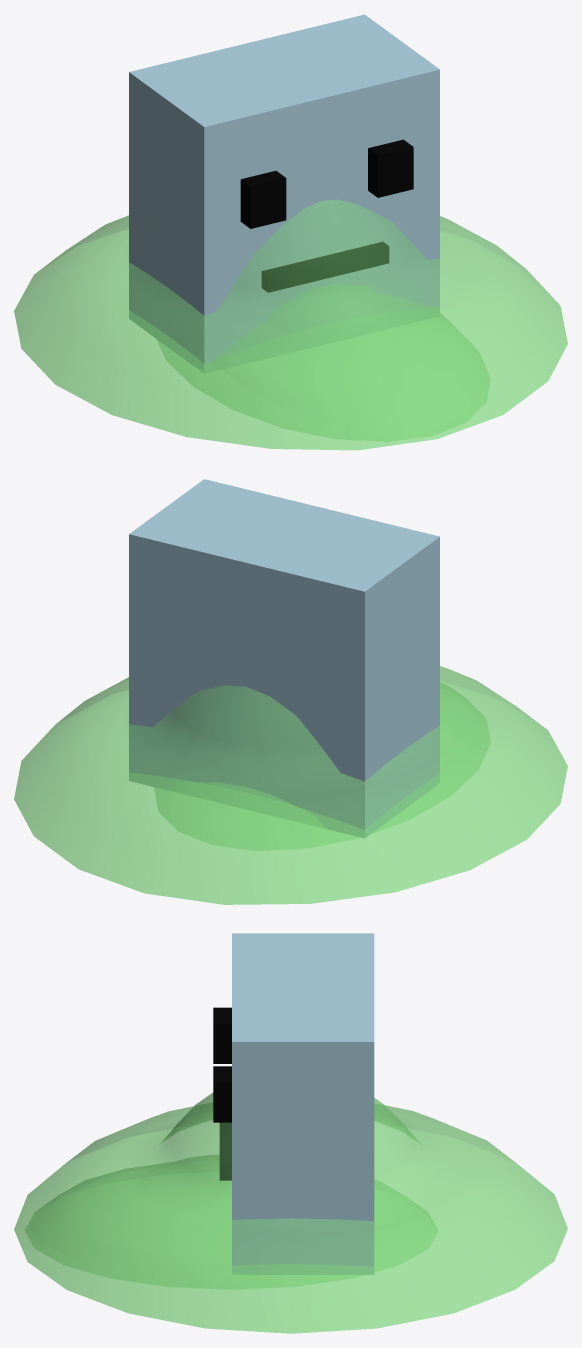
The model's file is anim_SlimeBot.fbx.
3 views of the same model, one above another, from view 1: azimuth 30°, elevation 25°; view 2: azimuth 150°, elevation 25°; view 3: azimuth 270°, elevation 25° (orthographic). The views are drawn at different scales.
Parts seen in each view (by area): view 1: slimeBotGooMain1, slimeBotBody, slimeBotGooMain, slimeBotMouth, slimeBotEye_R, slimeBotEye_L; view 2: slimeBotBody, slimeBotGooMain1, slimeBotGooMain; view 3: slimeBotGooMain1, slimeBotBody, slimeBotGooMain, slimeBotEye_R, slimeBotEye_L, slimeBotMouth.
Boxes of the visible parts, box(x1,y1,x2,y2) form: slimeBotGooMain1: box(14, 199, 567, 450); slimeBotBody: box(129, 14, 439, 373); slimeBotGooMain: box(157, 284, 490, 441); slimeBotMouth: box(261, 241, 389, 292); slimeBotEye_R: box(240, 170, 286, 228); slimeBotEye_L: box(368, 139, 413, 197); slimeBotBody: box(129, 479, 439, 837); slimeBotGooMain1: box(14, 666, 567, 904); slimeBotGooMain: box(154, 682, 490, 850); slimeBotGooMain1: box(14, 1092, 567, 1333); slimeBotBody: box(232, 933, 374, 1274); slimeBotGooMain: box(25, 1154, 437, 1289); slimeBotEye_R: box(213, 1007, 231, 1063); slimeBotEye_L: box(213, 1066, 231, 1122); slimeBotMouth: box(219, 1122, 231, 1180).
Bounding box in the file's own units: 20 × 10.43 × 21.54.
